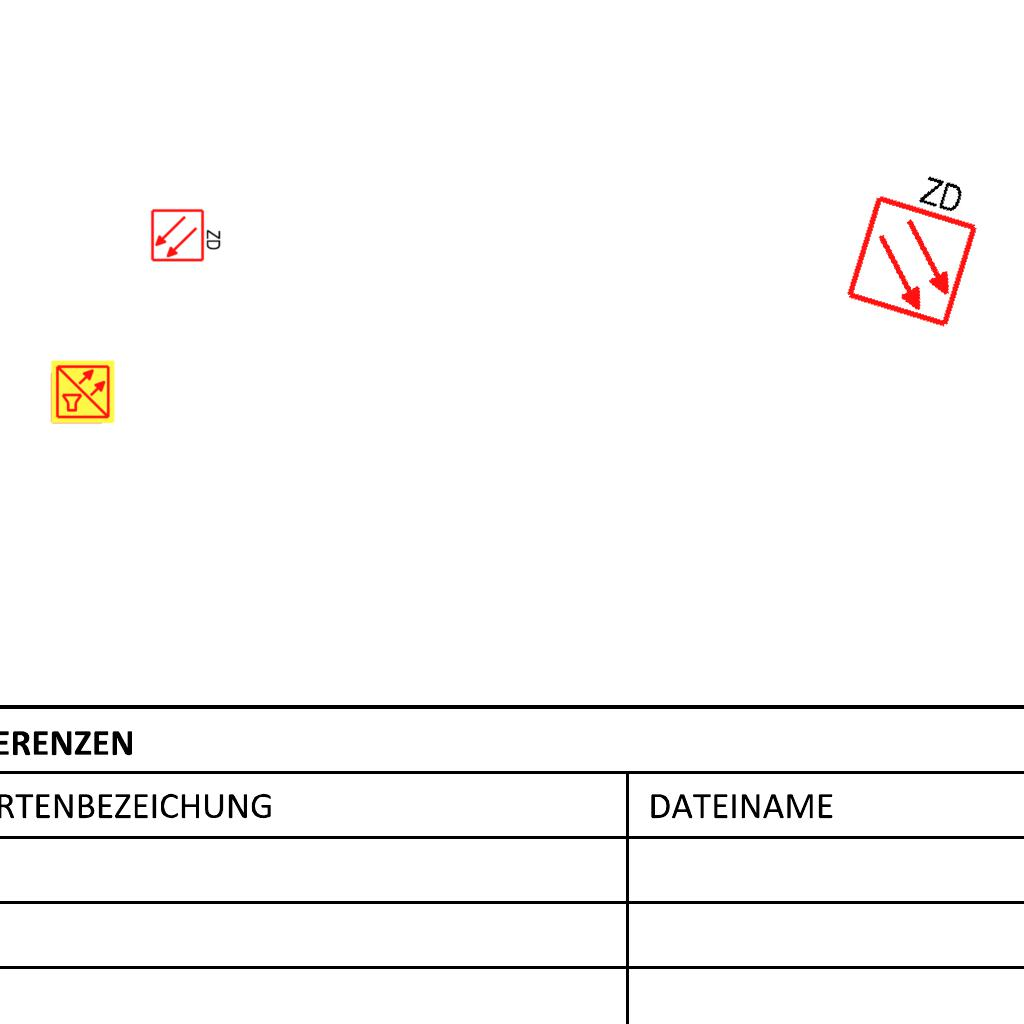OKW_Multisensormelder_(Kombination_optischer_Rauch-Kahlenmonoxid_Waerme-Melder): (50, 359, 116, 425)
ZD_Melder_in_Zwischendecke_mit_Revisionsoeffnung_mind_40_x_40_cm: (839, 154, 993, 331), (150, 206, 224, 263)
